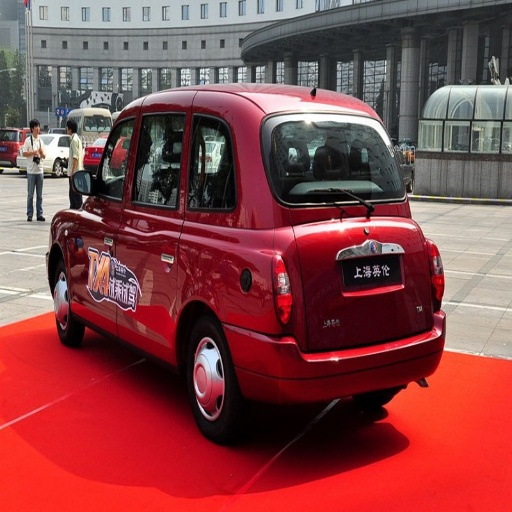back_bumper: (232, 287, 445, 404)
back_right_door: (136, 113, 185, 205)
trunk: (87, 201, 428, 349)
